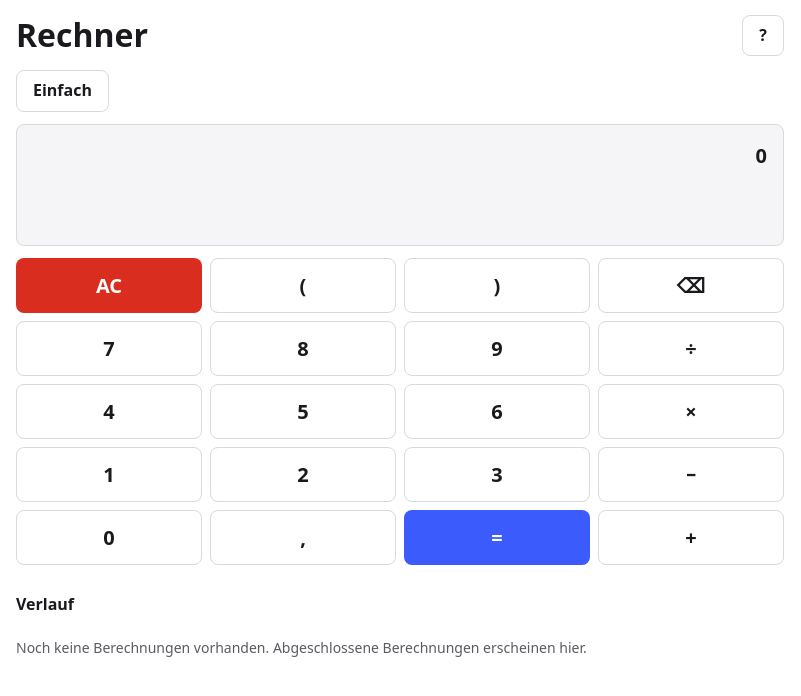
Test case: CalculatorPage › zeigt Ziffern und Operatoren im Display, "=" zeigt das Ergebnis
This screenshot has width=801, height=696.
Click the button "2".
click(303, 474)  # box [210,447,396,502]
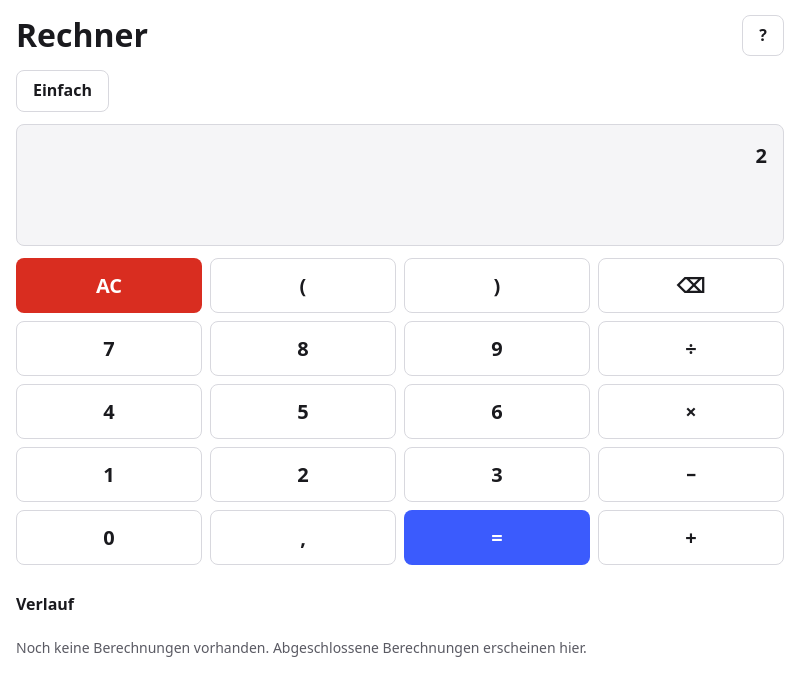
Click the button named "Plus".
click(691, 537)  # box [598,510,784,565]
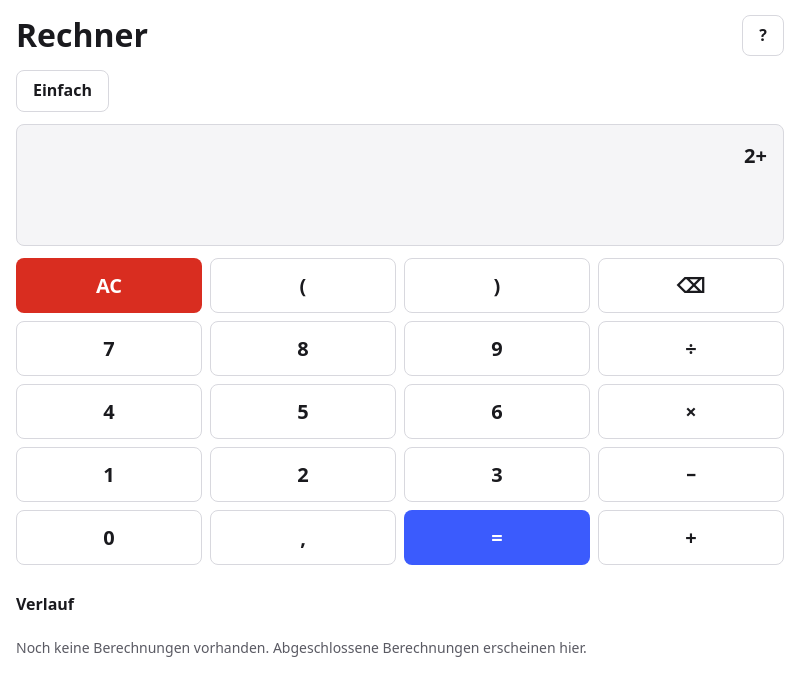
Click the button "3".
click(497, 474)  # box [404,447,590,502]
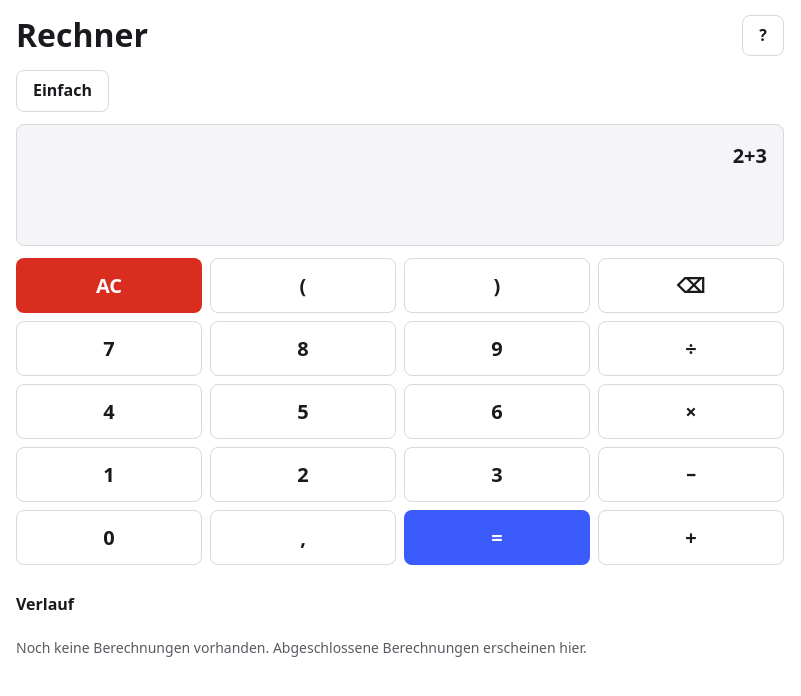
Expected: the text named "Ausdruck" reads "2+3", [733,142,767,169]
Click the button "=".
click(497, 537)  # box [404,510,590,565]
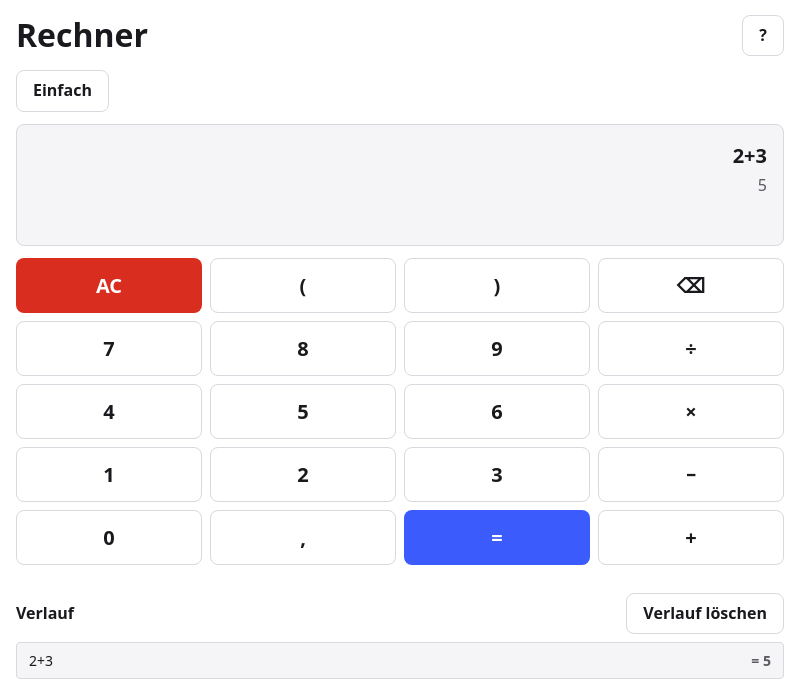
Expected: the message named "Ergebnis" reads "5", [758,174,767,196]
